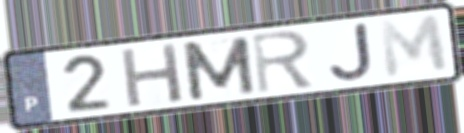2: (59, 53, 115, 115)
H: (118, 41, 187, 111)
J: (327, 20, 375, 84)
M: (178, 34, 259, 103), (375, 12, 452, 82)
R: (249, 27, 318, 96)
